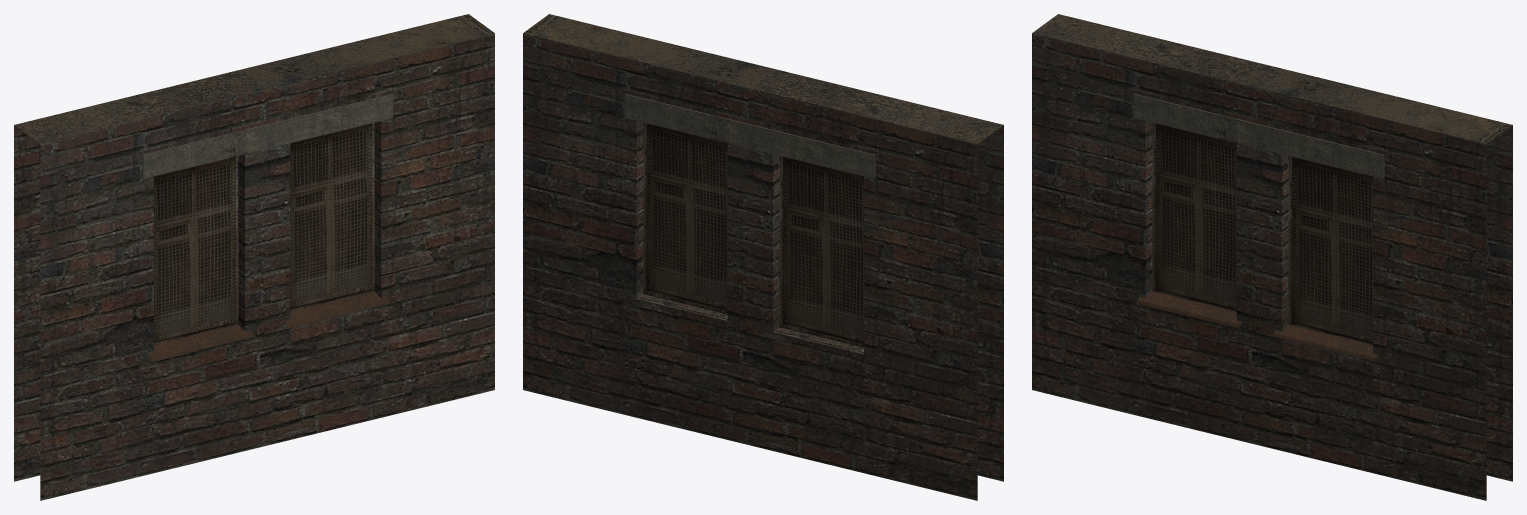
The model's file is windows_hs_1.fbx.
3 renders of one model, left to right at view 1: azimuth 30°, elevation 25°; view 2: azimuth 150°, elevation 25°; view 3: azimuth 330°, elevation 25°, orthographic.
Parts seen in each view (by area): view 1: windows_hs_1; view 2: windows_hs_1; view 3: windows_hs_1.
Boxes of the visible parts, bbox=[...] form: windows_hs_1: bbox=[14, 14, 494, 500]; windows_hs_1: bbox=[523, 14, 1003, 500]; windows_hs_1: bbox=[1032, 14, 1512, 500].
Bounding box in the file's own units: 4 × 0.465 × 3.
